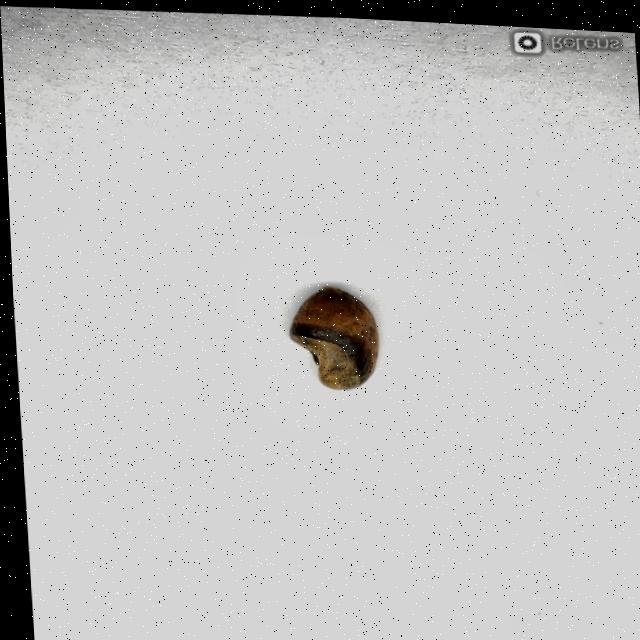Insect damage: (282, 282, 379, 388)
